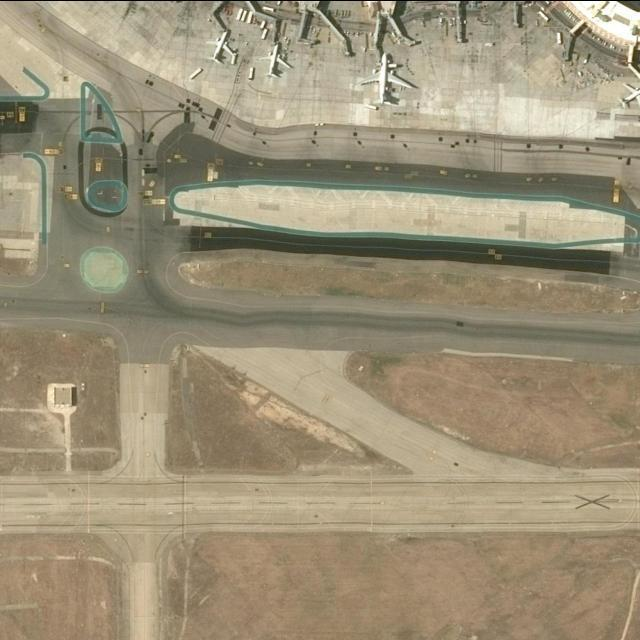Aircraft: (359, 49, 415, 106), (258, 40, 291, 78), (205, 27, 236, 63), (618, 80, 640, 110)
